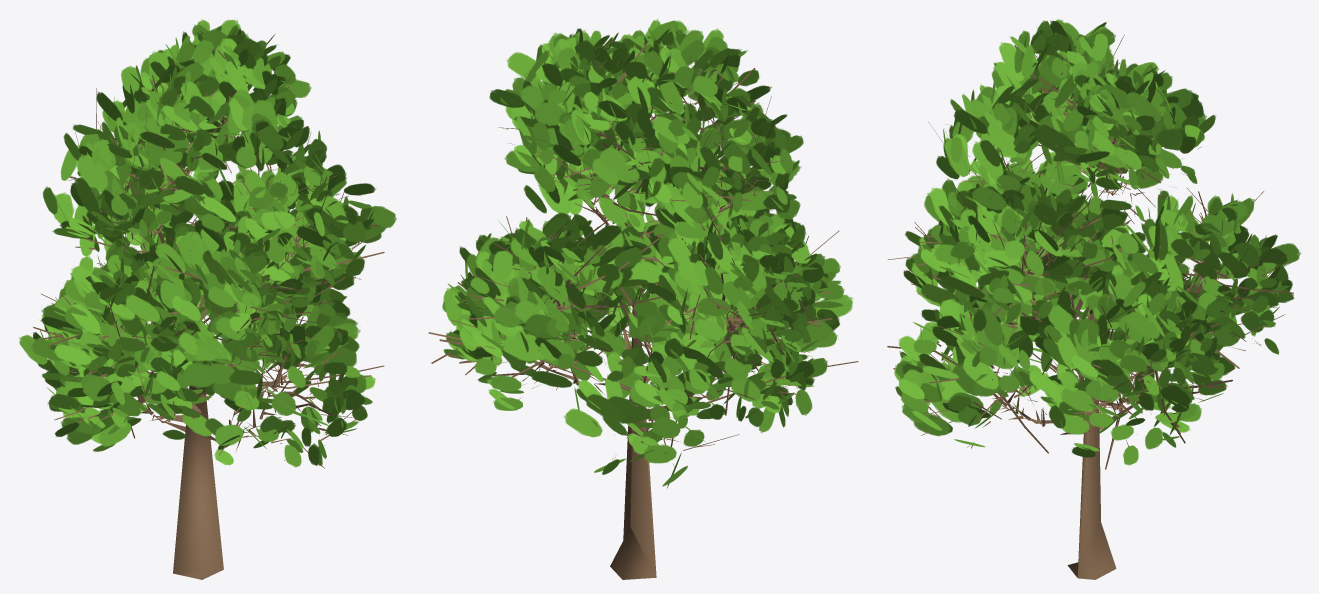
File: stylized_tree.lod3.glb
3 views of the same model, side by side, from view 1: azimuth 30°, elevation 25°; view 2: azimuth 150°, elevation 25°; view 3: azimuth 270°, elevation 25° (orthographic). The views are drawn at different scales.
Parts seen in each view (by area): view 1: oak 01_leafes_Mat.001_0, oak 01.001_trunk_Mat.001_0; view 2: oak 01_leafes_Mat.001_0, oak 01.001_trunk_Mat.001_0; view 3: oak 01_leafes_Mat.001_0, oak 01.001_trunk_Mat.001_0.
Boxes of the visible parts, x1,y1,x2,y2 form: oak 01_leafes_Mat.001_0: (19, 19, 396, 467); oak 01.001_trunk_Mat.001_0: (33, 47, 384, 579); oak 01_leafes_Mat.001_0: (442, 19, 852, 488); oak 01.001_trunk_Mat.001_0: (428, 39, 858, 579); oak 01_leafes_Mat.001_0: (894, 19, 1300, 465); oak 01.001_trunk_Mat.001_0: (887, 34, 1293, 579).
Bounding box in the file's own units: 0.3929 × 0.5749 × 0.4075.
2 materials, 1 textured.
